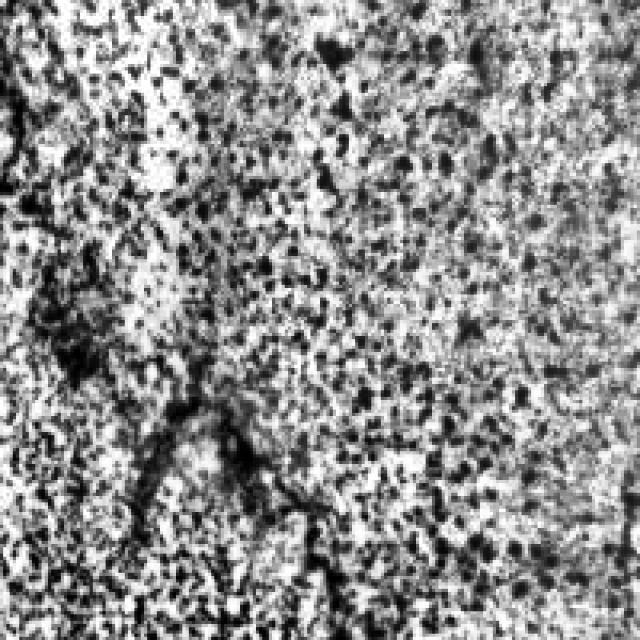Rolled_in_Scale: (0, 0, 624, 621)
